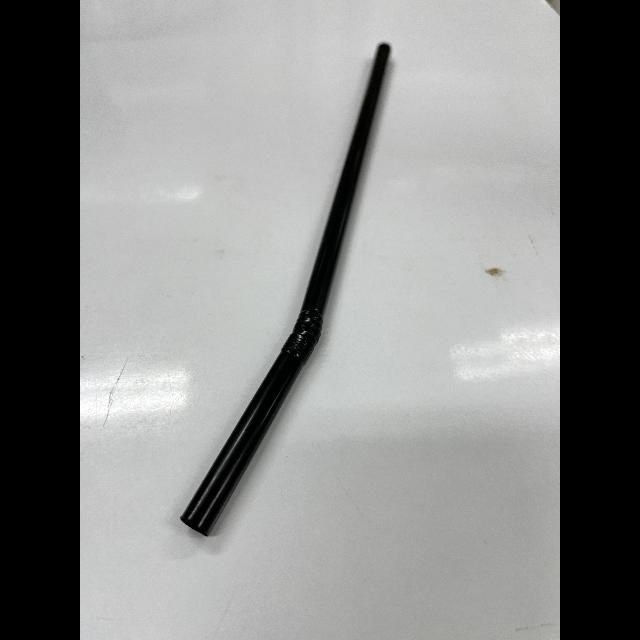straw: (178, 41, 396, 541)
